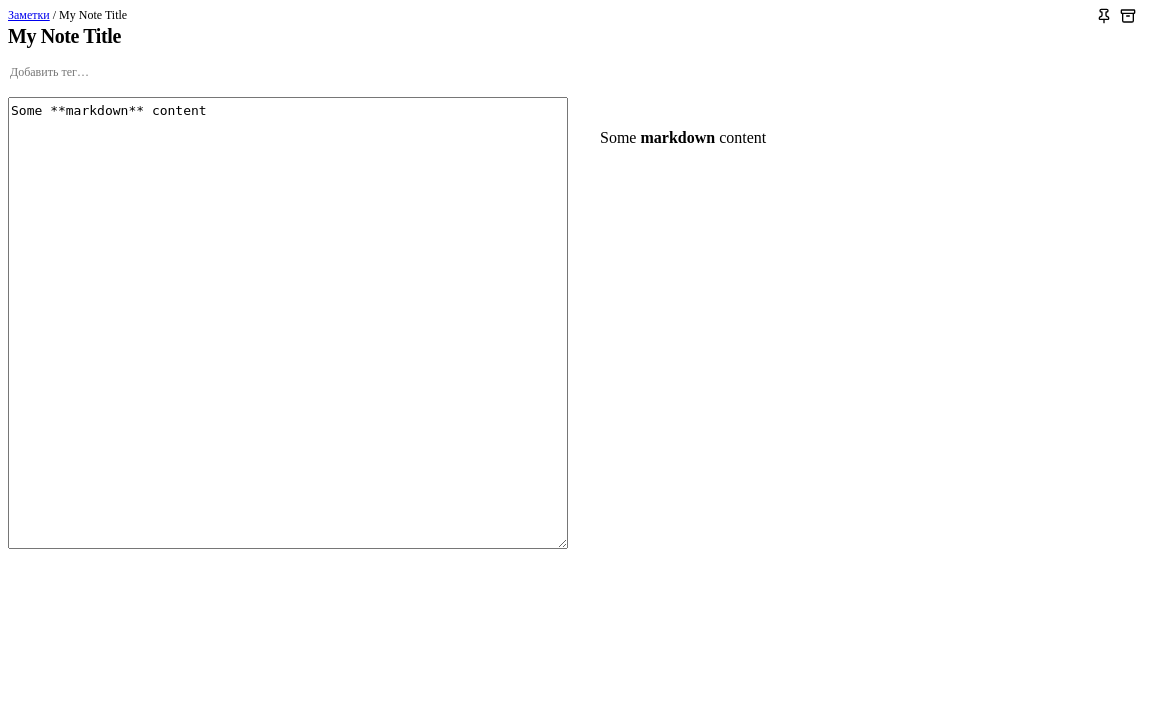
Test case: NoteEditorPage — tags › makes the fetched tag names available as TagInput suggestions
Expected: the field showing "My Note Title" is shown, [8,25,1080,48]
Type "project" into the field with placeholder "Добавить тег…" at x=576, y=72, box [8,64,1144,81]
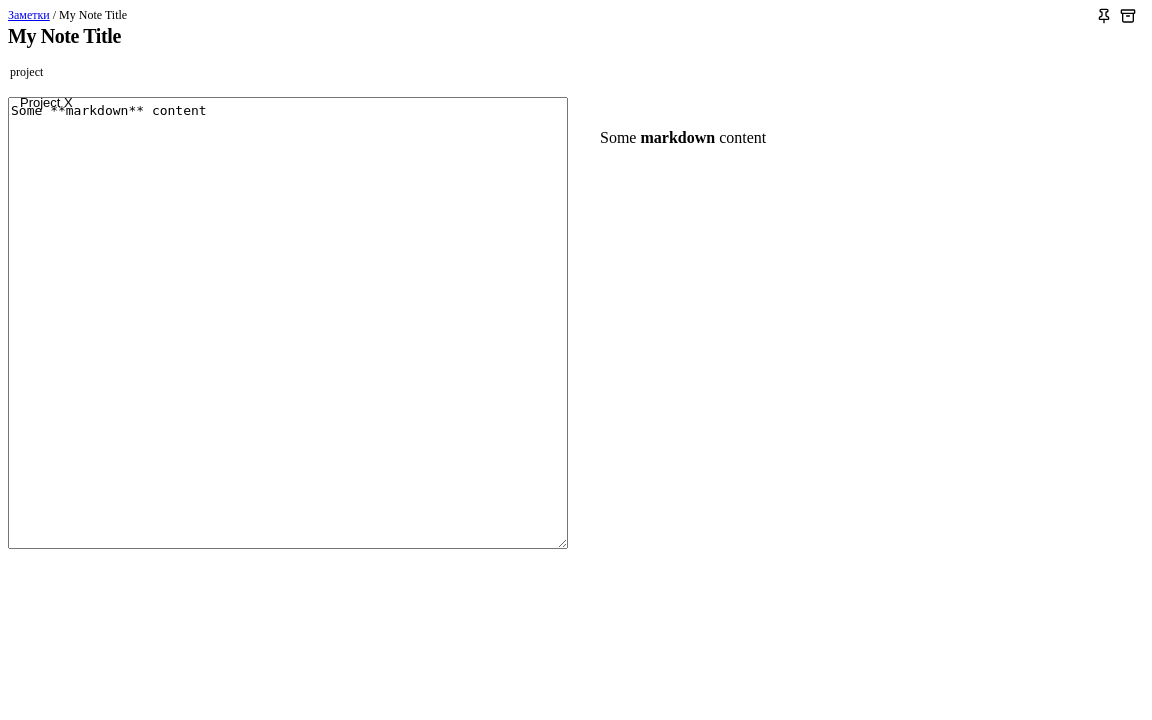
Result: the button "Project X" is shown at [12,89,172,116]
